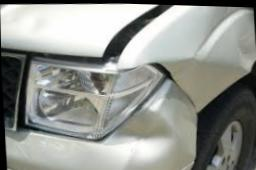Bonnet: (1, 3, 179, 67)
Bumper: (70, 77, 196, 170)
Fender: (135, 25, 256, 111)
